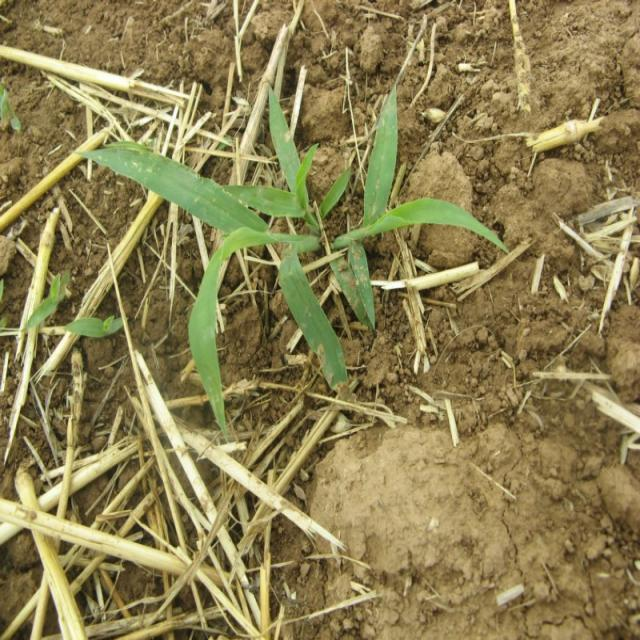bg: (85, 90, 505, 440)
